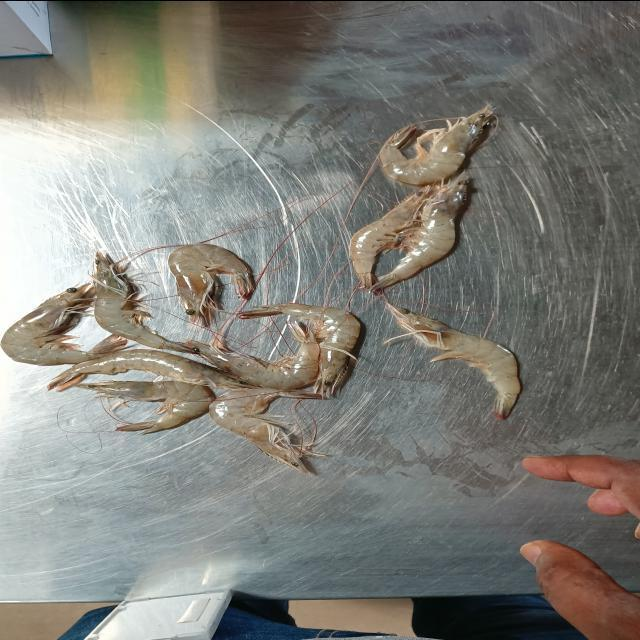shrimp: (387, 302, 520, 419), (365, 172, 467, 290), (239, 302, 361, 392), (0, 282, 126, 365), (93, 251, 195, 352), (208, 388, 325, 472), (379, 104, 494, 186), (186, 321, 321, 389), (46, 349, 257, 390), (350, 186, 429, 289), (73, 380, 215, 432), (168, 242, 255, 326)
